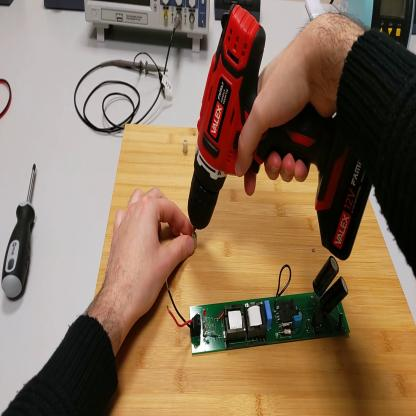electric screwdriver: (188, 4, 379, 262)
hand: (236, 29, 342, 198), (106, 187, 195, 322)
high voltage board: (163, 254, 356, 357)
oscilloscope: (84, 1, 213, 53)
oscilloscope probe tip: (116, 58, 169, 80)
screwdriver-: (3, 161, 40, 302)
socket: (46, 1, 85, 18), (2, 1, 13, 8)
welder station: (347, 2, 416, 49)
working area: (95, 126, 416, 416)
